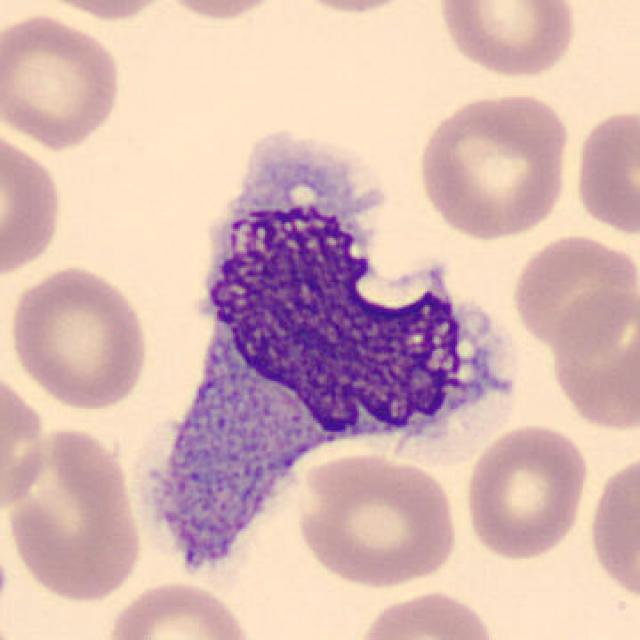Basophil: (147, 118, 517, 575)
RBC: (2, 419, 148, 606), (412, 88, 576, 243), (292, 450, 462, 590), (5, 262, 153, 412), (460, 420, 592, 562), (0, 10, 126, 152), (507, 229, 638, 353), (546, 282, 640, 436), (434, 0, 581, 81), (0, 125, 66, 284), (101, 576, 259, 640), (570, 102, 640, 239), (585, 448, 640, 608), (0, 362, 52, 520), (352, 587, 501, 640), (23, 0, 180, 23), (155, 0, 293, 23), (278, 0, 430, 16)
